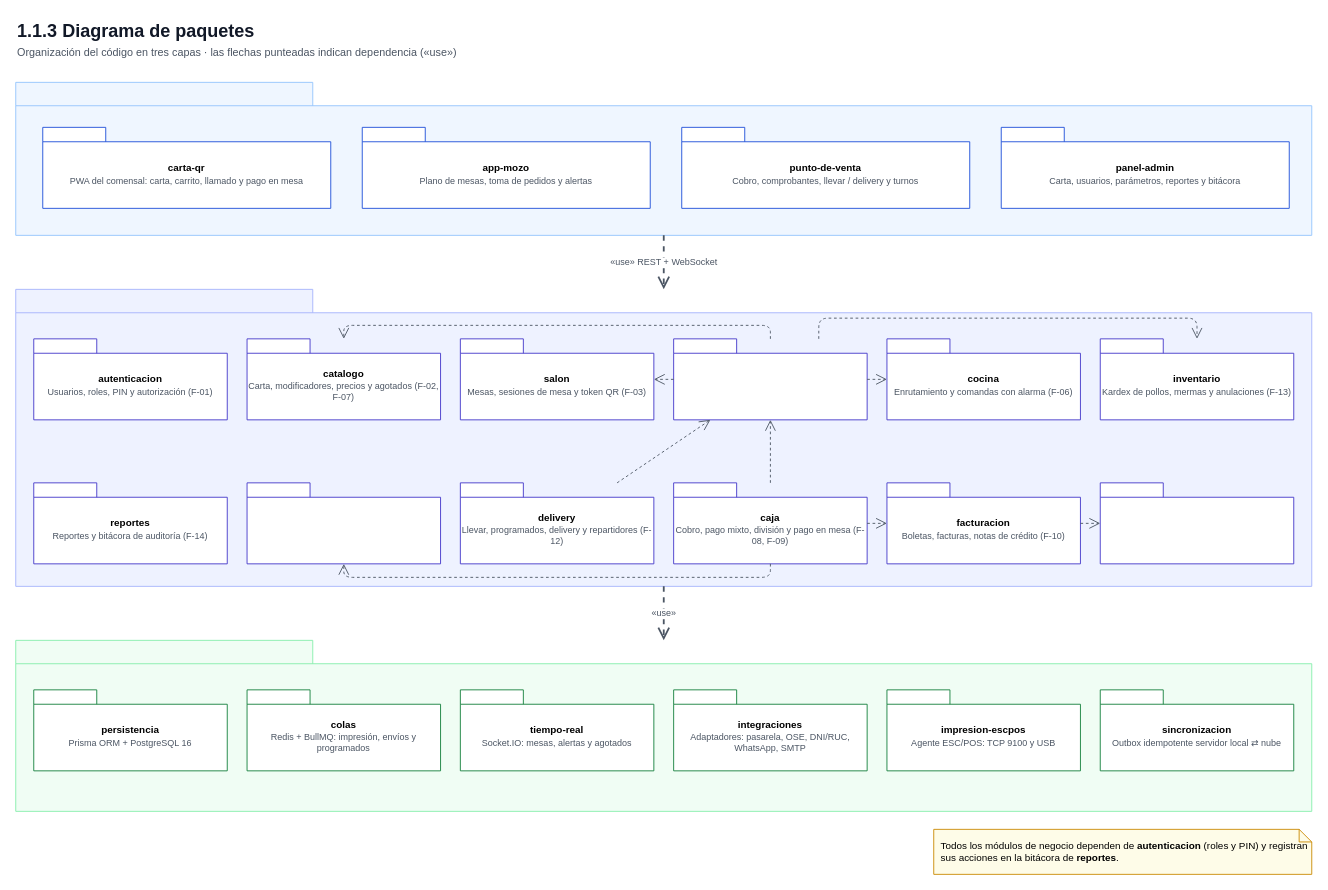
Some shapes in this 1328 by 890 pixel diagram are drawn without their labels. Each missing label, with the box of its shape:
Infraestructura y servicios técnicos: (15, 639, 1312, 811)
Lógica de negocio · módulos NestJS: (15, 288, 1312, 586)
notificaciones Envío por WhatsApp y correo: (1099, 482, 1294, 564)
pedidos Pedidos, rondas, confirmación y correcciones (F-04, F-05): (673, 338, 867, 420)
Presentación · Next.js + TypeScript: (15, 81, 1312, 235)
turnos Apertura, arqueo ciego, Reporte X y Z (F-11): (246, 482, 441, 564)
